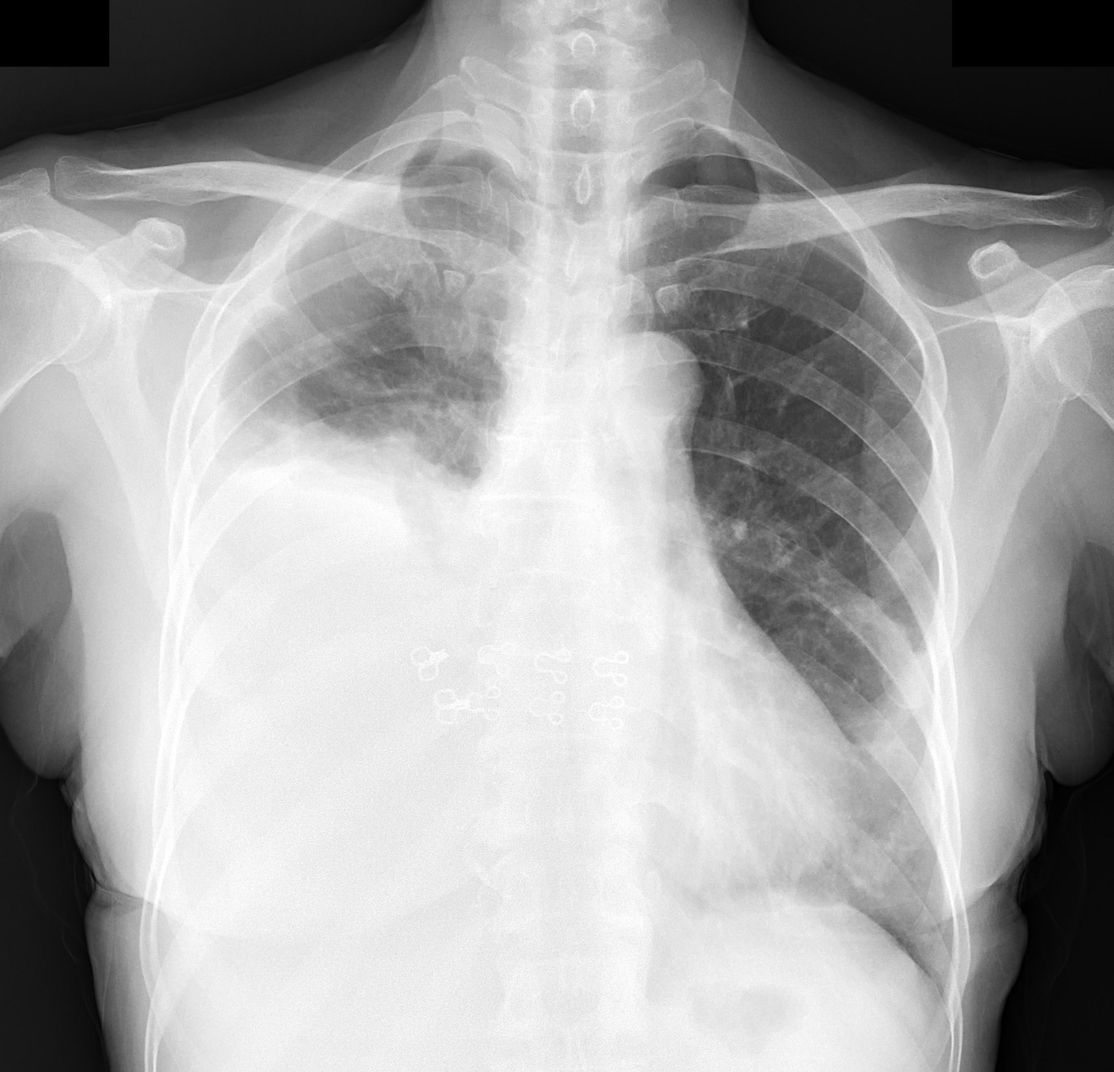Pleural thickening: (191, 140, 487, 454)
